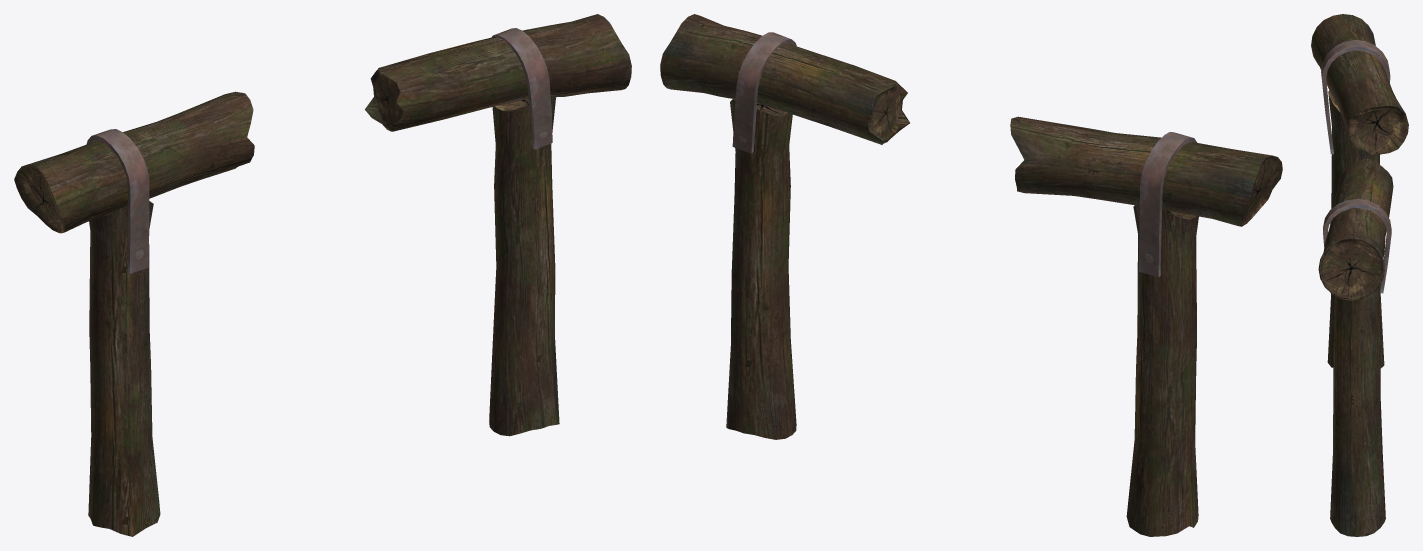
3 views of the same model, side by side, from view 1: azimuth 30°, elevation 25°; view 2: azimuth 150°, elevation 25°; view 3: azimuth 270°, elevation 25° (orthographic). The views are drawn at different scales.
Parts seen in each view (by area): view 1: SM_Village_Hitching_Post_v1_LOD0; view 2: SM_Village_Hitching_Post_v1_LOD0; view 3: SM_Village_Hitching_Post_v1_LOD0.
Boxes of the visible parts, bbox=[...] form: SM_Village_Hitching_Post_v1_LOD0: bbox=[14, 14, 631, 536]; SM_Village_Hitching_Post_v1_LOD0: bbox=[660, 14, 1282, 536]; SM_Village_Hitching_Post_v1_LOD0: bbox=[1311, 14, 1408, 536].
Bounding box in the file's own units: 2.33 × 1.49 × 0.413.
2 materials, 2 textured.
